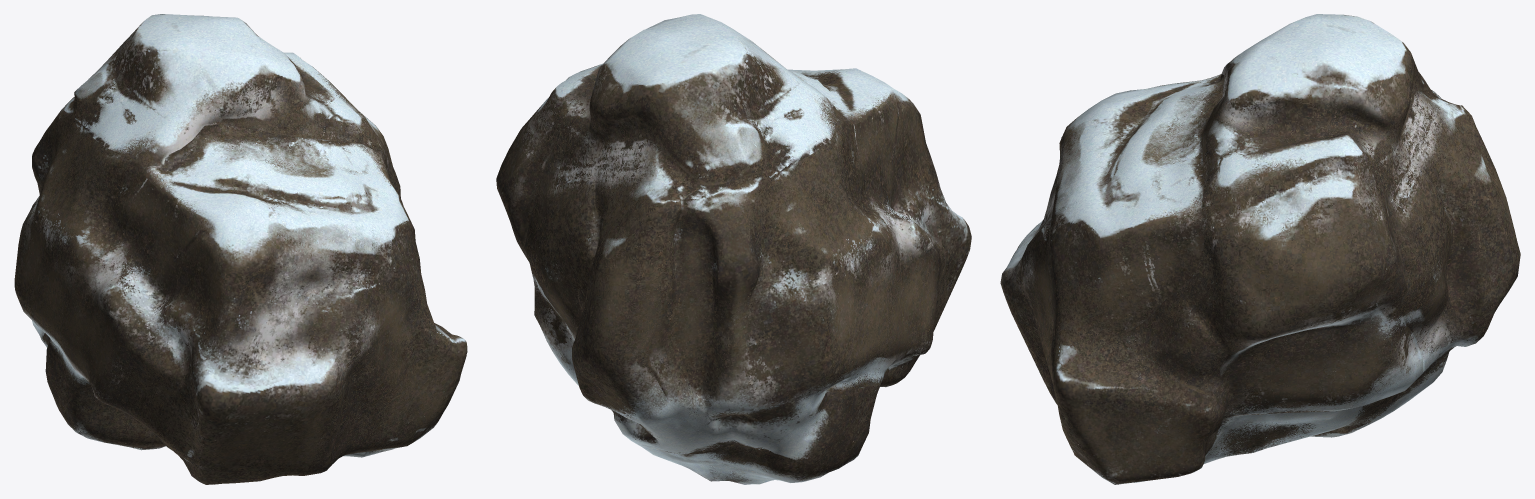
File: Asteroid.fbx
3 views of the same model, side by side, from view 1: azimuth 30°, elevation 25°; view 2: azimuth 150°, elevation 25°; view 3: azimuth 270°, elevation 25° (orthographic). The views are drawn at different scales.
Visible parts, largest first — view 1: node_id532; view 2: node_id532; view 3: node_id532.
Part boxes in pixels (left/top/right/bottom): node_id532: left=14, top=14, right=467, bottom=484; node_id532: left=496, top=14, right=971, bottom=484; node_id532: left=1000, top=14, right=1520, bottom=484.
Size of the model in its own units: 0.4481 by 0.512 by 0.5773.
Materials: 1 (1 with a texture image).
